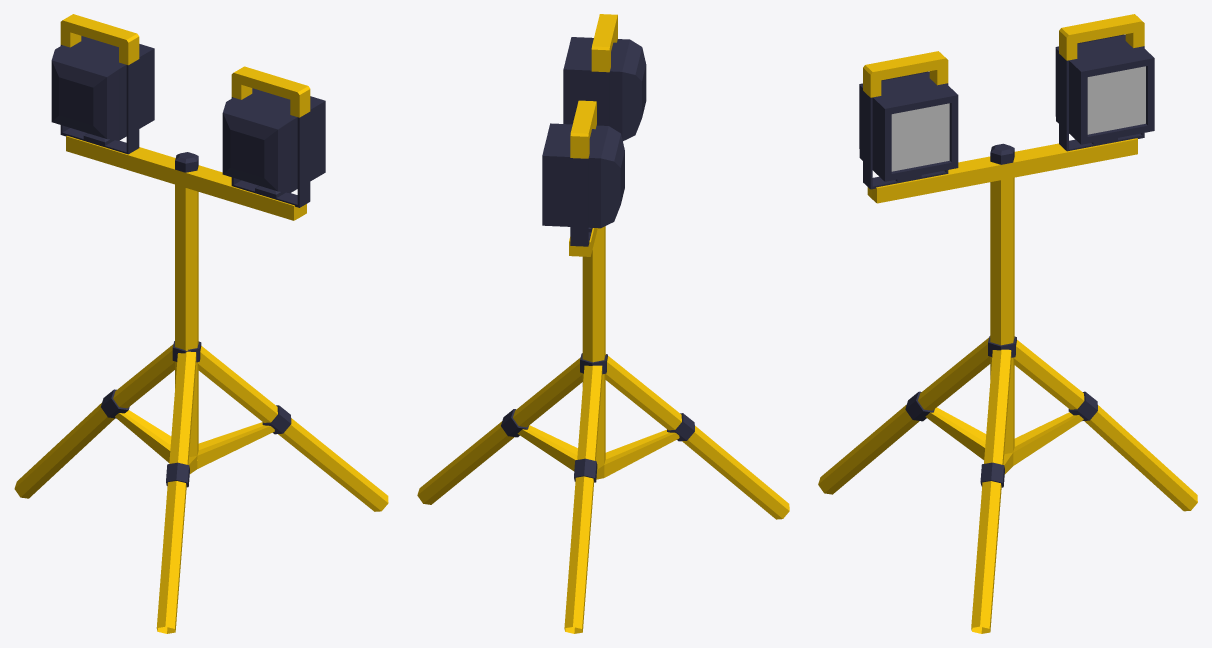
Rendered from lamp.obj.
3 renders of one model, left to right at view 1: azimuth 30°, elevation 25°; view 2: azimuth 150°, elevation 25°; view 3: azimuth 270°, elevation 25°, orthographic. The views are drawn at different scales.
Parts seen in each view (by area): view 1: Lamp_(Standard)_Cylinder.001; view 2: Lamp_(Standard)_Cylinder.001; view 3: Lamp_(Standard)_Cylinder.001.
Part boxes in pixels (x1=…): Lamp_(Standard)_Cylinder.001: x1=14, y1=14, x2=388, y2=633; Lamp_(Standard)_Cylinder.001: x1=417, y1=14, x2=789, y2=633; Lamp_(Standard)_Cylinder.001: x1=818, y1=14, x2=1197, y2=633.
Bounding box in the file's own units: 1.83 × 2.82 × 1.93.
1 material, 1 textured.
